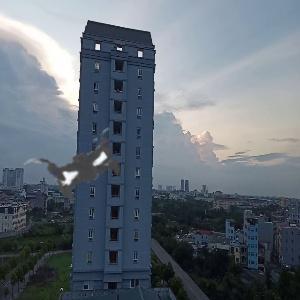drone: (3, 81, 178, 256)
